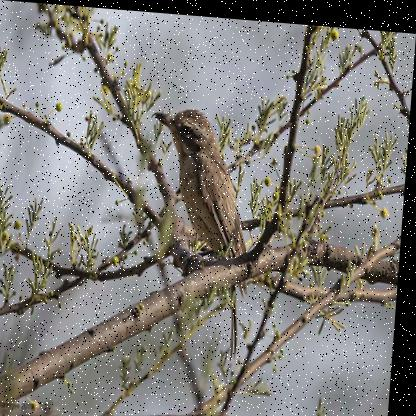Burung: (139, 103, 261, 355)
